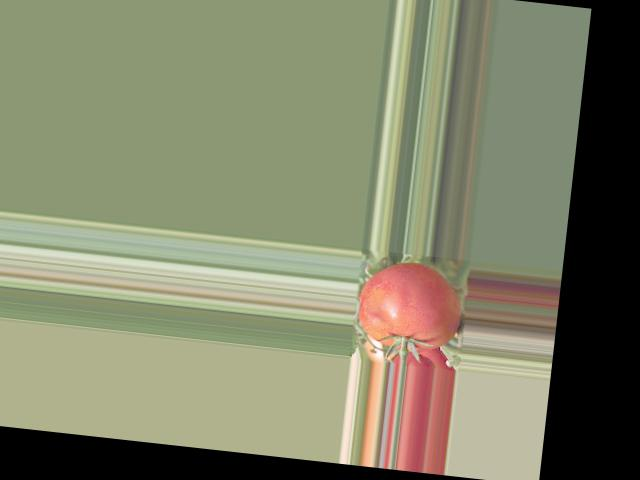tomato: (354, 257, 464, 355)
